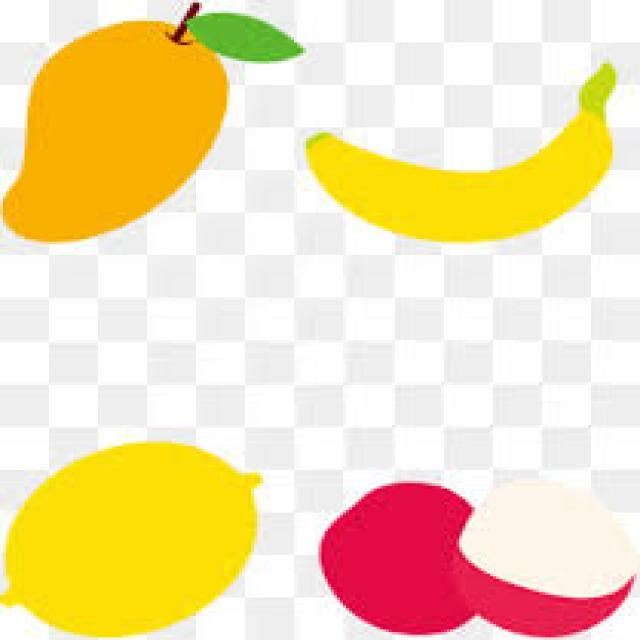Organik: (3, 6, 250, 231), (309, 68, 618, 241), (1, 434, 258, 636), (324, 476, 634, 623)
